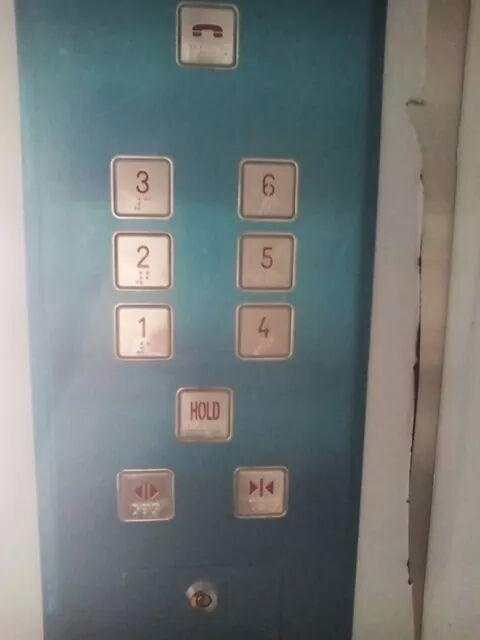1: (110, 299, 174, 364)
2: (110, 228, 174, 293)
3: (108, 152, 175, 223)
4: (232, 298, 296, 363)
5: (234, 230, 298, 295)
6: (236, 156, 300, 223)
call: (173, 1, 243, 73)
close: (230, 463, 290, 521)
keyhole: (182, 575, 225, 621)
open: (113, 463, 177, 528)
text_hold: (173, 383, 237, 448)
